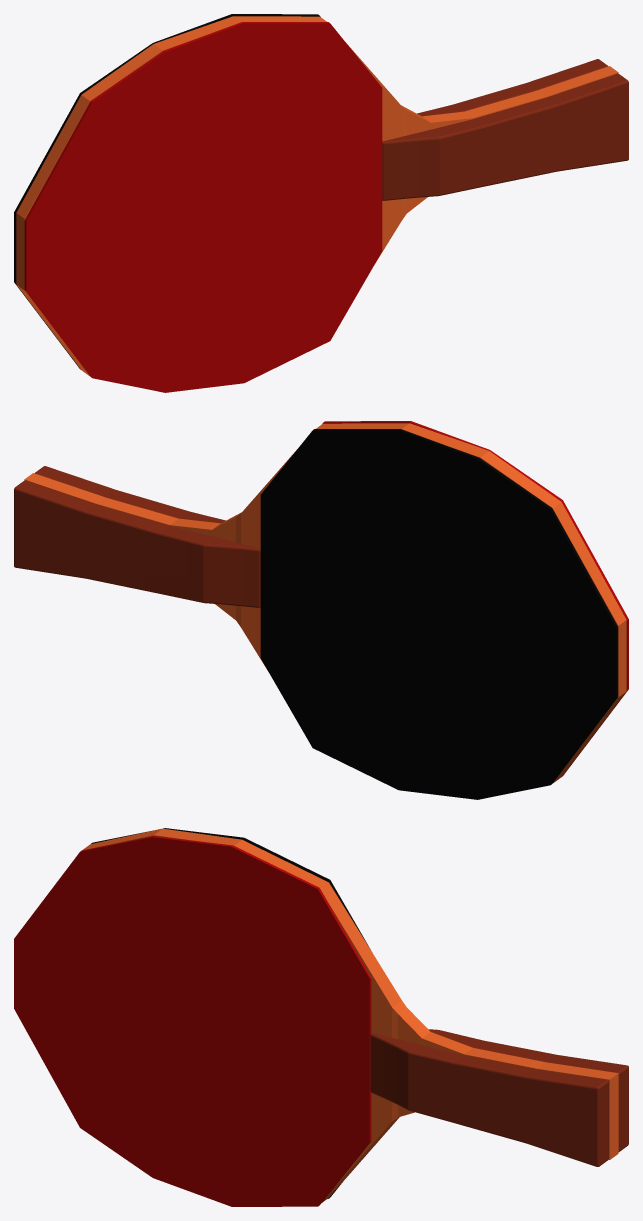
The model's file is paddle.obj.
3 renders of one model, top to bottom at view 1: azimuth 30°, elevation 25°; view 2: azimuth 150°, elevation 25°; view 3: azimuth 330°, elevation 25°, orthographic.
Parts seen in each view (by area): view 1: pad_base2; view 2: pad_base2; view 3: pad_base2.
Part boxes in pixels (x1,y1,x2,y2): pad_base2: [14, 14, 628, 392]; pad_base2: [14, 421, 628, 799]; pad_base2: [14, 828, 628, 1206].
Size of the model in its own units: 0.2526 by 0.1463 by 0.023.
